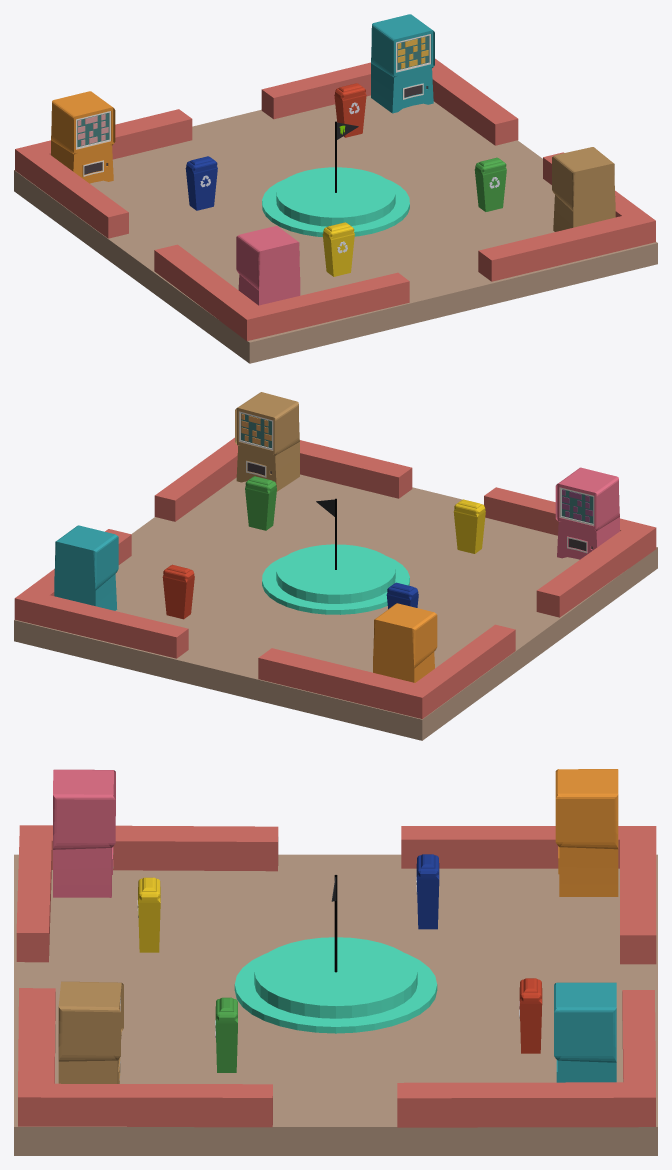
File: Escenario.fbx
3 views of the same model, one above another, from view 1: azimuth 30°, elevation 25°; view 2: azimuth 150°, elevation 25°; view 3: azimuth 270°, elevation 25° (orthographic). The views are drawn at different scales.
Parts seen in each view (by area): view 1: Escenario, Maquina Celeste, Maquina Naranja, Maquina Marrón, Maquina Rosa, Obstaculo Verde, Obstaculo Azul, Obstaculo Amarillo, Obstaculo Rojo; view 2: Escenario, Maquina Marrón, Maquina Rosa, Maquina Celeste, Maquina Naranja, Obstaculo Verde, Obstaculo Rojo, Obstaculo Amarillo, Obstaculo Azul; view 3: Escenario, Maquina Naranja, Maquina Rosa, Maquina Marrón, Maquina Celeste, Obstaculo Azul, Obstaculo Rojo, Obstaculo Amarillo, Obstaculo Verde.
Boxes of the visible parts, x1,y1,x2,y2 form: Escenario: (14, 58, 657, 363); Maquina Celeste: (371, 14, 434, 113); Maquina Naranja: (51, 91, 115, 183); Maquina Marrón: (552, 147, 615, 231); Maquina Rosa: (236, 226, 300, 305); Obstaculo Verde: (474, 157, 506, 211); Obstaculo Azul: (185, 156, 217, 210); Obstaculo Amarillo: (322, 222, 354, 276); Obstaculo Rojo: (334, 83, 366, 137); Escenario: (14, 437, 657, 740); Maquina Marrón: (235, 392, 299, 491); Maquina Rosa: (555, 467, 619, 559); Maquina Celeste: (54, 525, 118, 610); Maquina Naranja: (373, 603, 437, 682); Obstaculo Verde: (245, 476, 276, 530); Obstaculo Rojo: (162, 564, 194, 619); Obstaculo Amarillo: (453, 499, 485, 553); Obstaculo Azul: (386, 582, 418, 609); Escenario: (14, 825, 657, 1155); Maquina Naranja: (555, 769, 618, 896); Maquina Rosa: (53, 769, 115, 897); Maquina Marrón: (58, 981, 123, 1083); Maquina Celeste: (554, 982, 616, 1082); Obstaculo Azul: (416, 854, 439, 929); Obstaculo Rojo: (519, 978, 542, 1053); Obstaculo Amarillo: (137, 877, 160, 952); Obstaculo Verde: (215, 997, 237, 1072).
Bounding box in the file's own units: 3985 × 983 × 3972.
